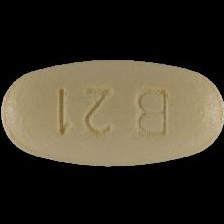68180-360: (0, 0, 224, 224)
